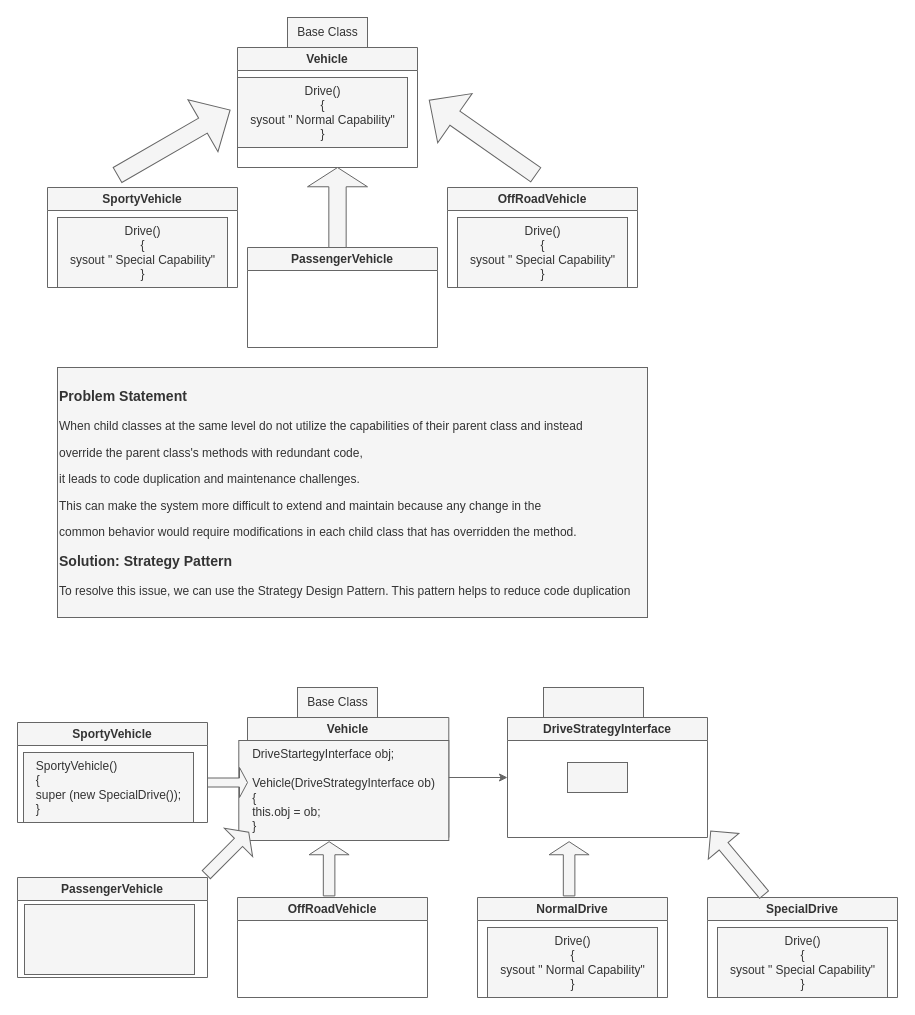
The diagram is 915 pixels wide and 1015 high, and some of its shapes have lost their labels. Here are the shapes that lost their labels. From the top down, the centre of each, then its label:
At point 593,702: "Interface Class".
At point 597,777: "Drive();".
At point 109,939: "SportyVehicle() { super (new NormalDrive()); }".
